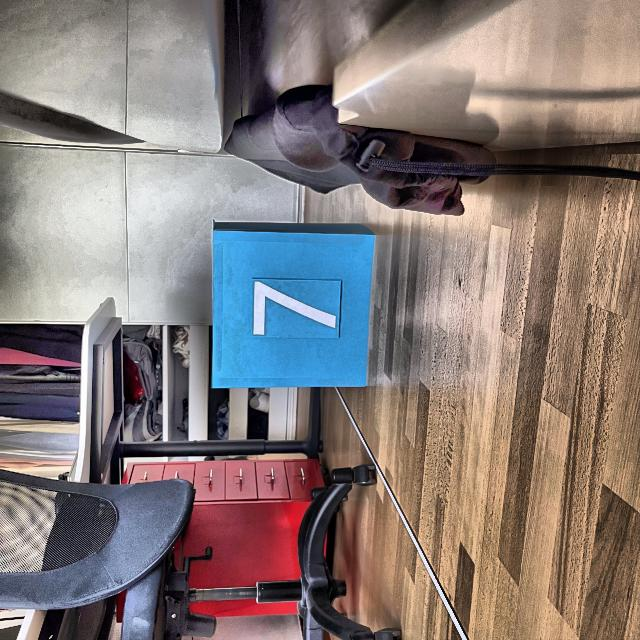blue box: (208, 216, 377, 392)
seven: (250, 277, 340, 338)
